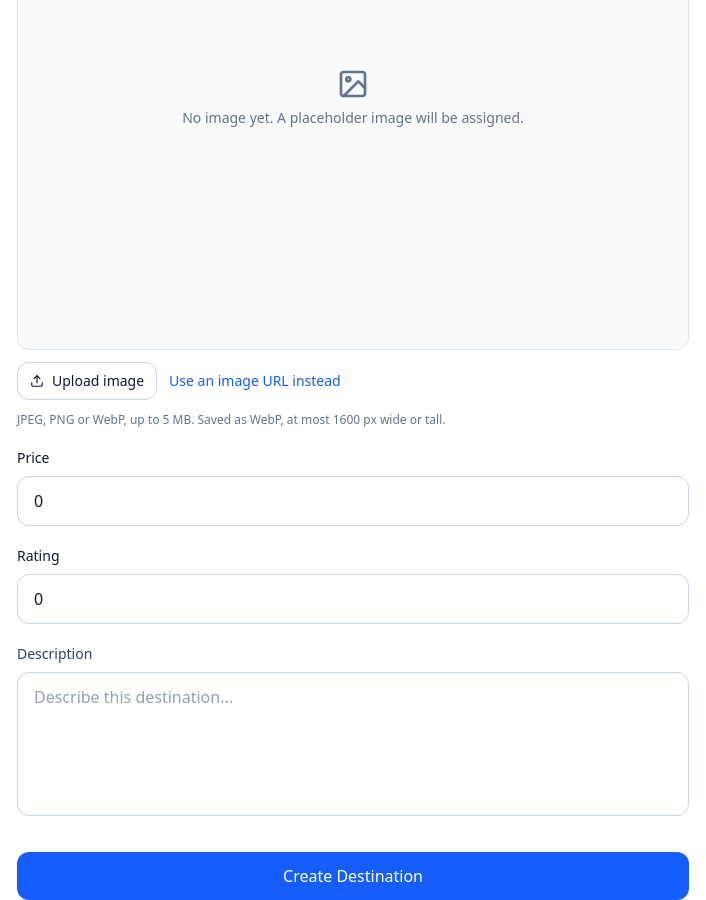
Test case: DestinationForm › shows validation errors and does not submit an empty form
(page scrolled)
Click the button "Create Destination" at (353, 876), box x1=17 y1=852 x2=689 y2=899
(page scrolled)
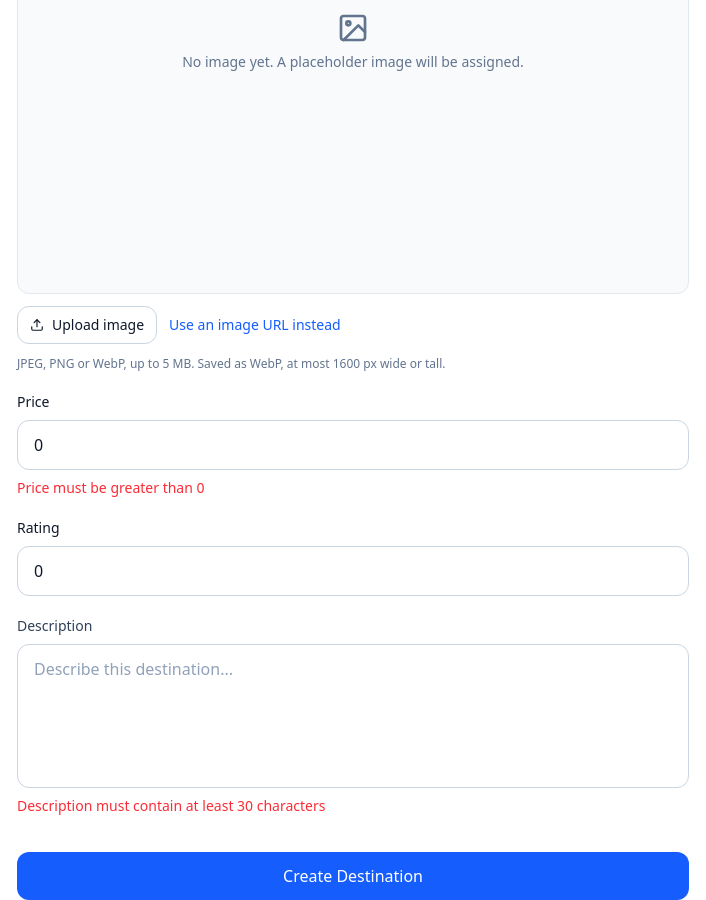
Now the text "Price must be greater than 0" is shown, box x1=17 y1=478 x2=204 y2=497
Now the text "Description must contain at least 30 characters" is shown, box x1=17 y1=796 x2=326 y2=815
